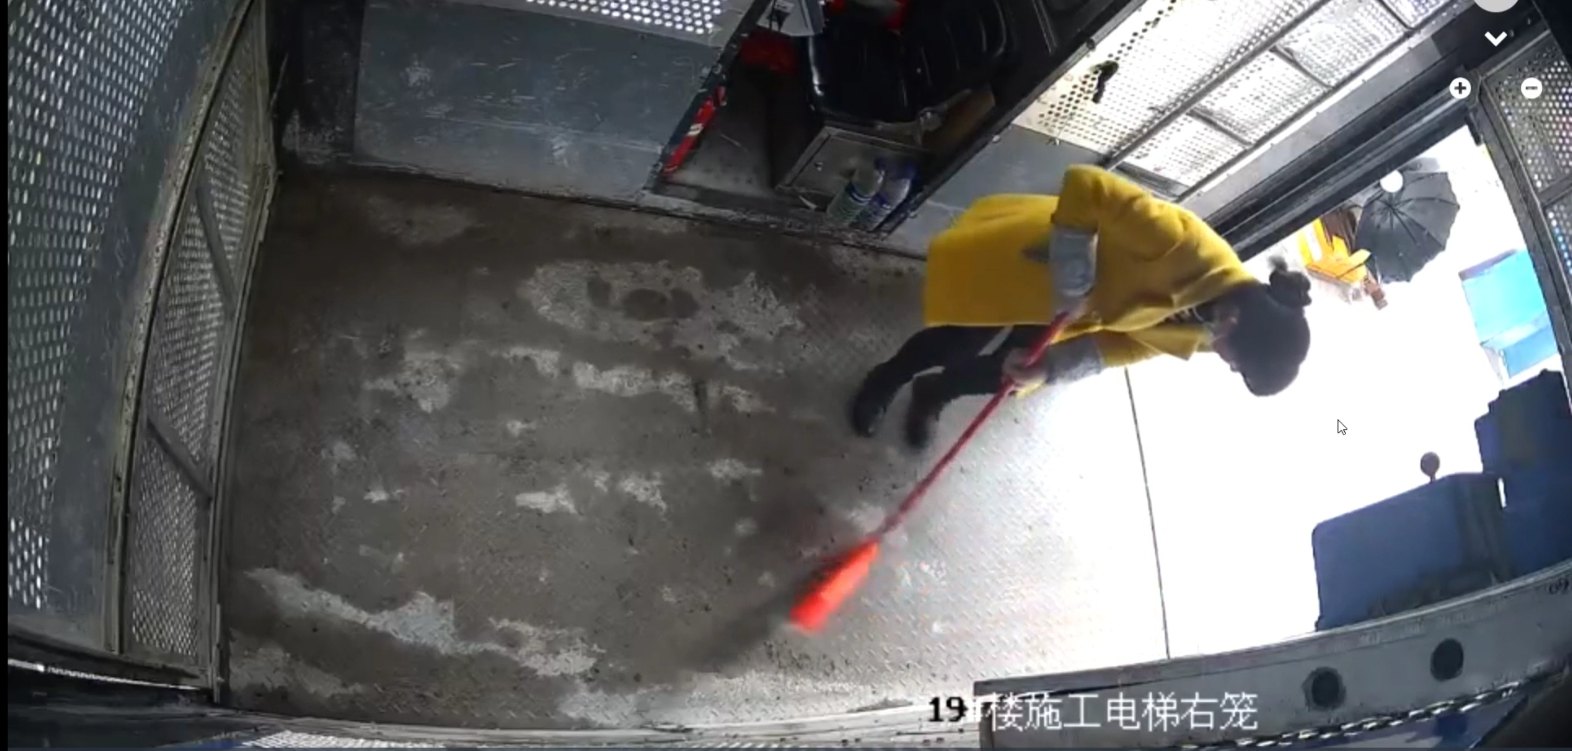person: (847, 160, 1313, 453)
